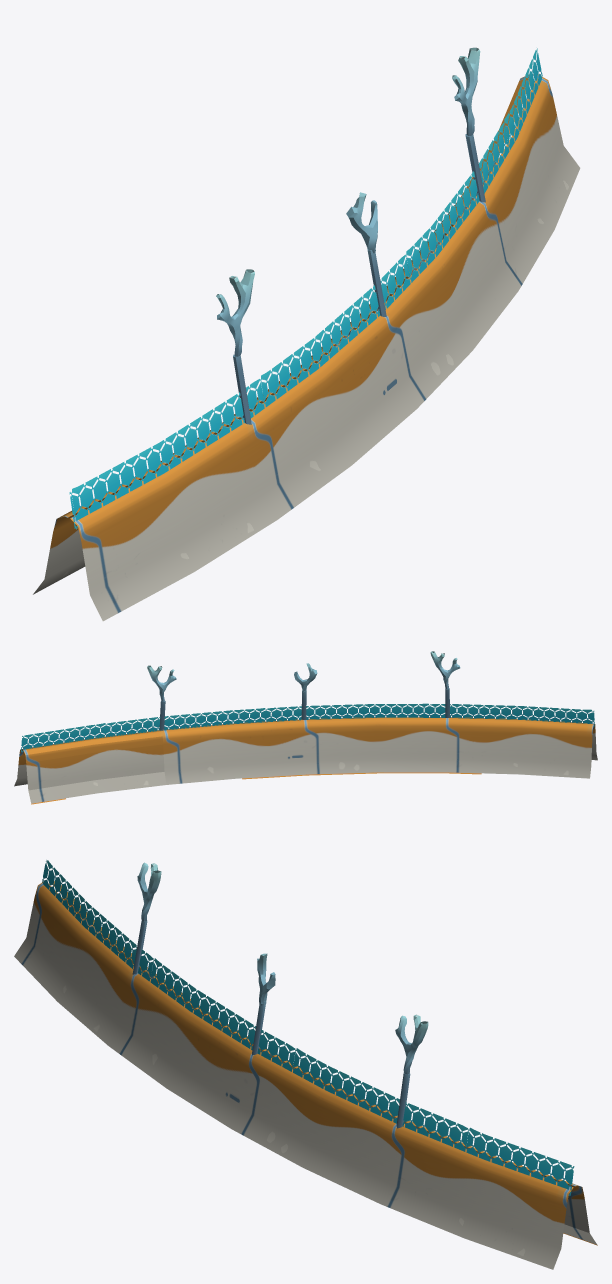
File: mur_long_tp (1).fbx
3 views of the same model, one above another, from view 1: azimuth 30°, elevation 25°; view 2: azimuth 150°, elevation 25°; view 3: azimuth 270°, elevation 25° (orthographic). The views are drawn at different scales.
Visible parts, largest first — view 1: S_Wall_04; view 2: S_Wall_04; view 3: S_Wall_04.
Part boxes in pixels (bbox=[...]): S_Wall_04: bbox=[33, 47, 580, 621]; S_Wall_04: bbox=[14, 651, 597, 804]; S_Wall_04: bbox=[14, 860, 597, 1269].
Size of the model in its own units: 1221 by 314 by 930.
1 material, 1 textured.
